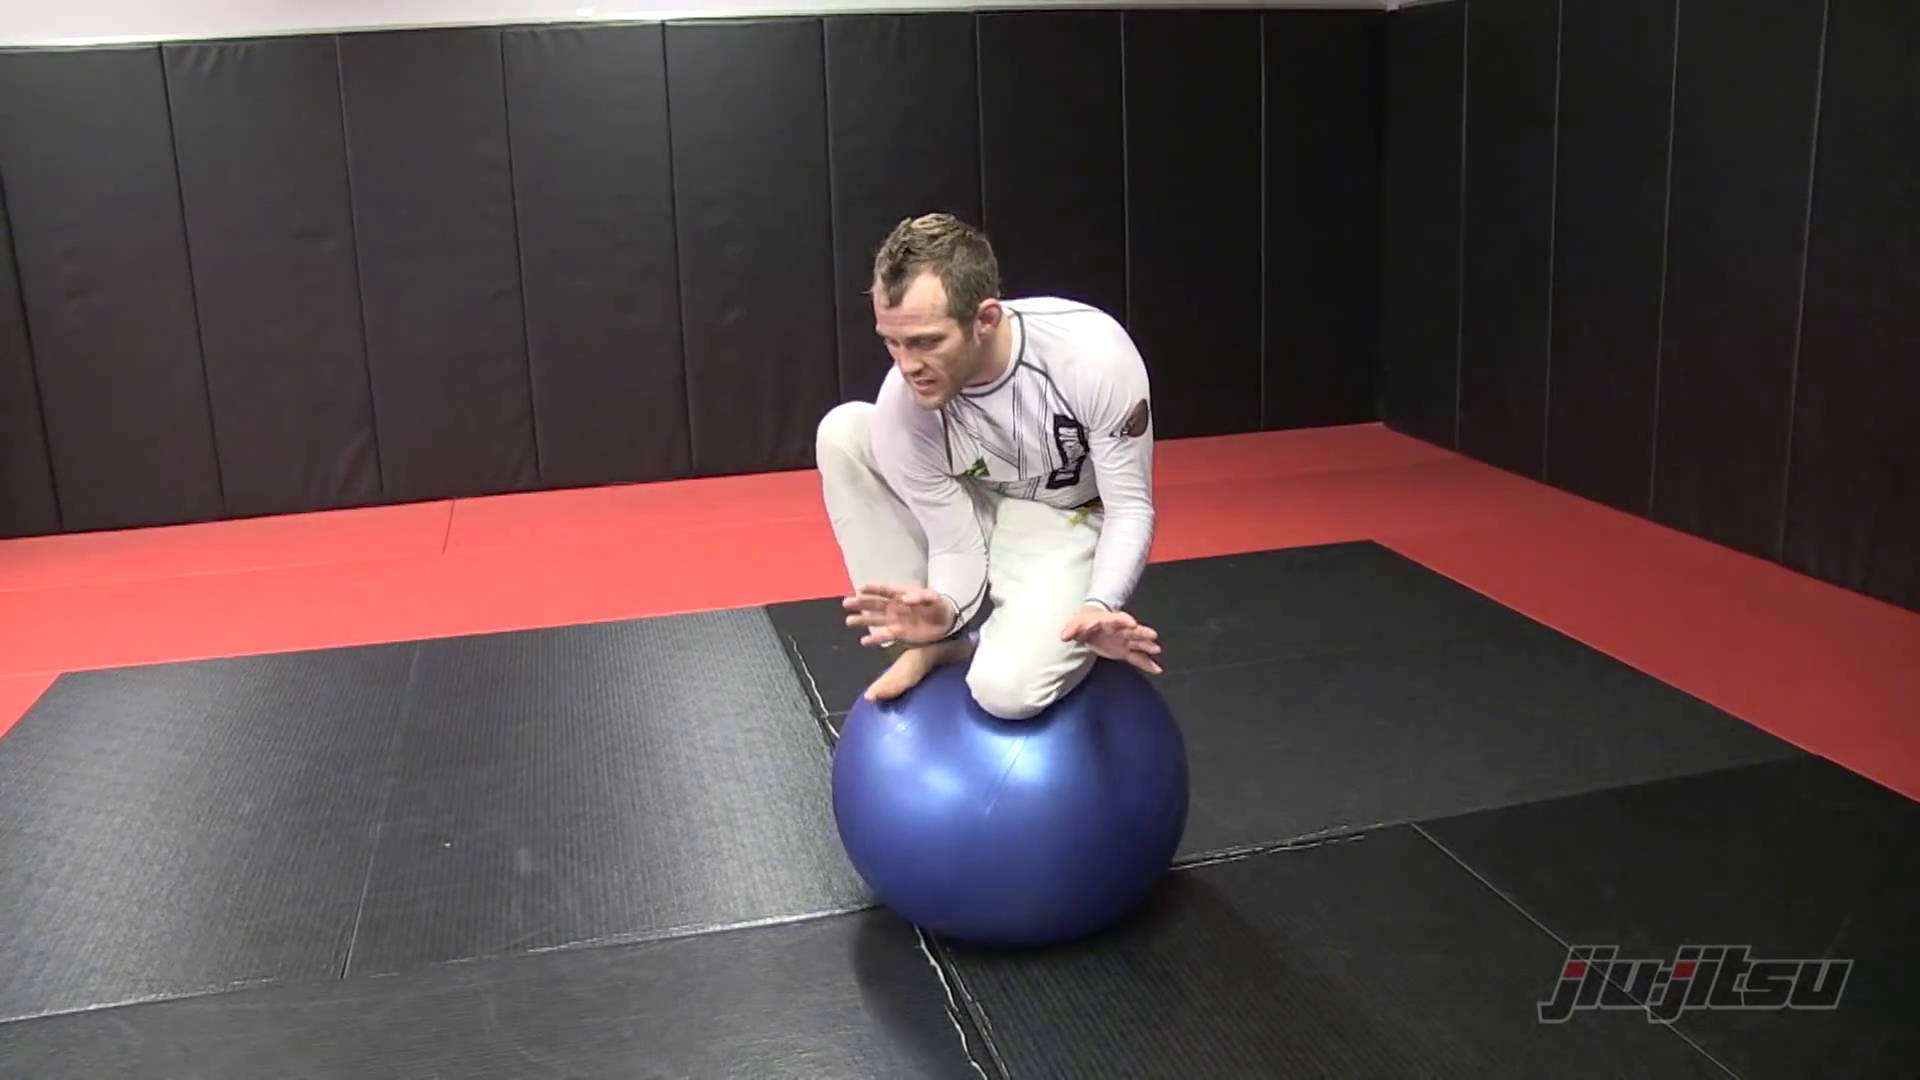yogaball: (827, 632, 1200, 965)
